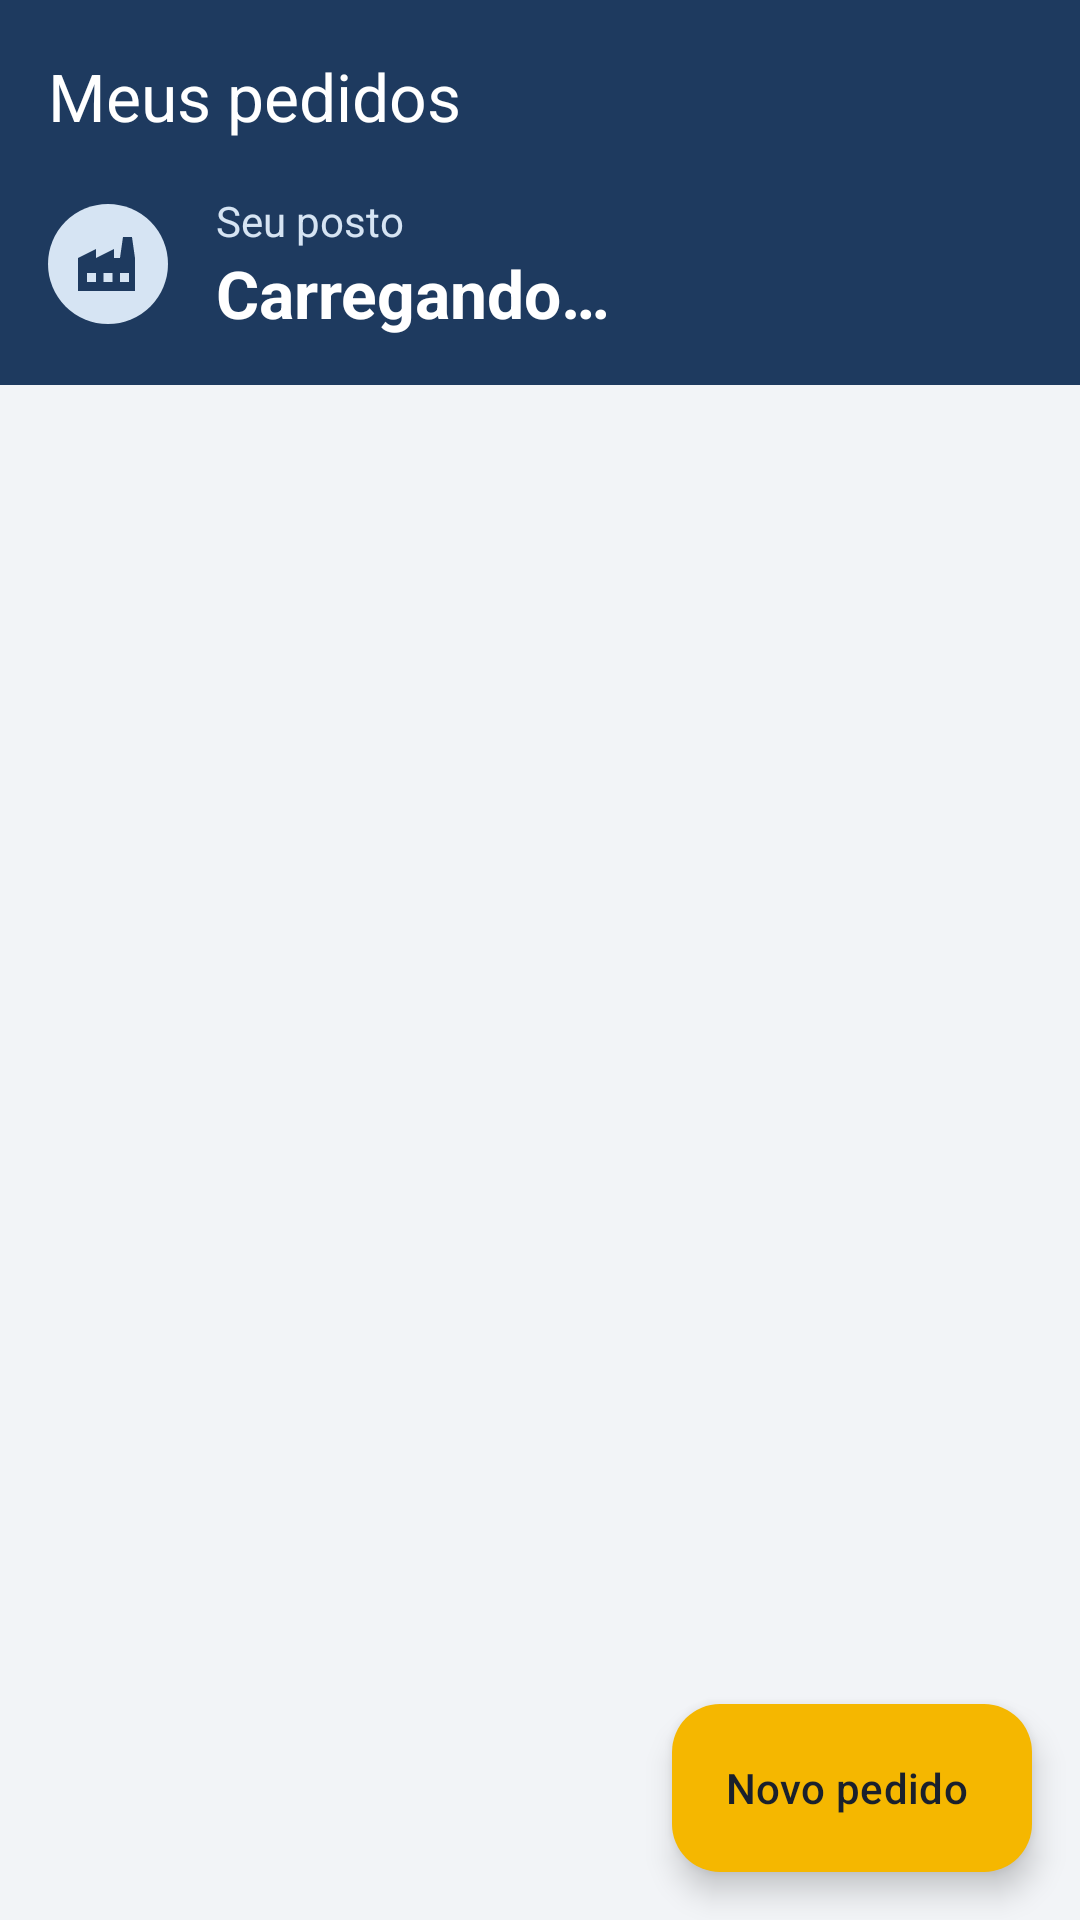

Icons on this 1080px x 1920px Android screen, each with its box as (x1, y1, x2, y2):
Ícone de posto de trabalho: (48, 204, 168, 324)
